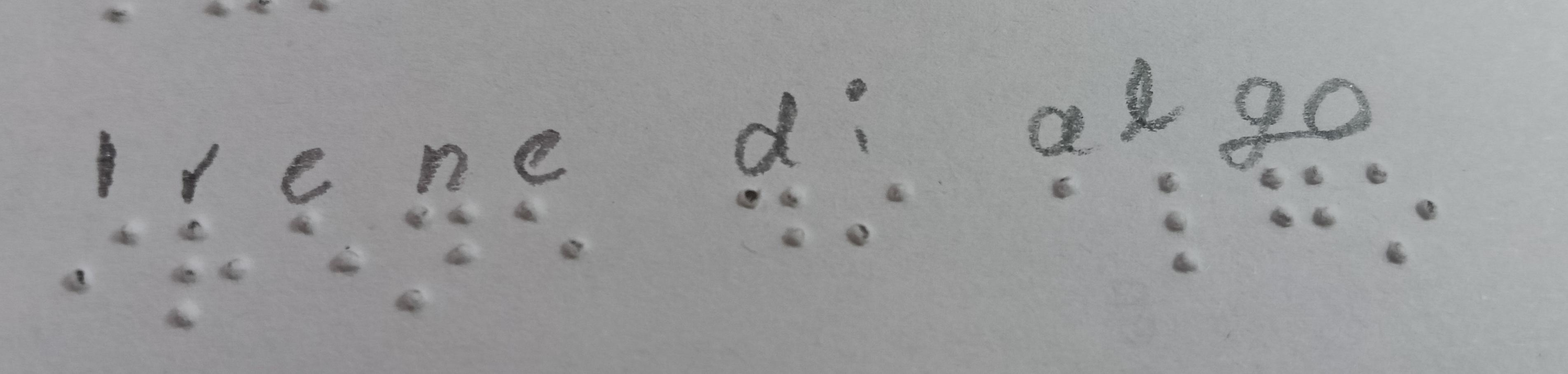a: (999, 161, 1098, 216)
d: (715, 177, 816, 262)
e: (270, 202, 373, 297), (496, 196, 593, 276)
g: (1240, 169, 1345, 247)
i: (818, 169, 919, 259), (54, 208, 140, 313)
l: (1125, 157, 1224, 292)
n: (393, 204, 480, 319)
o: (1355, 154, 1454, 278)
r: (148, 206, 251, 338)
